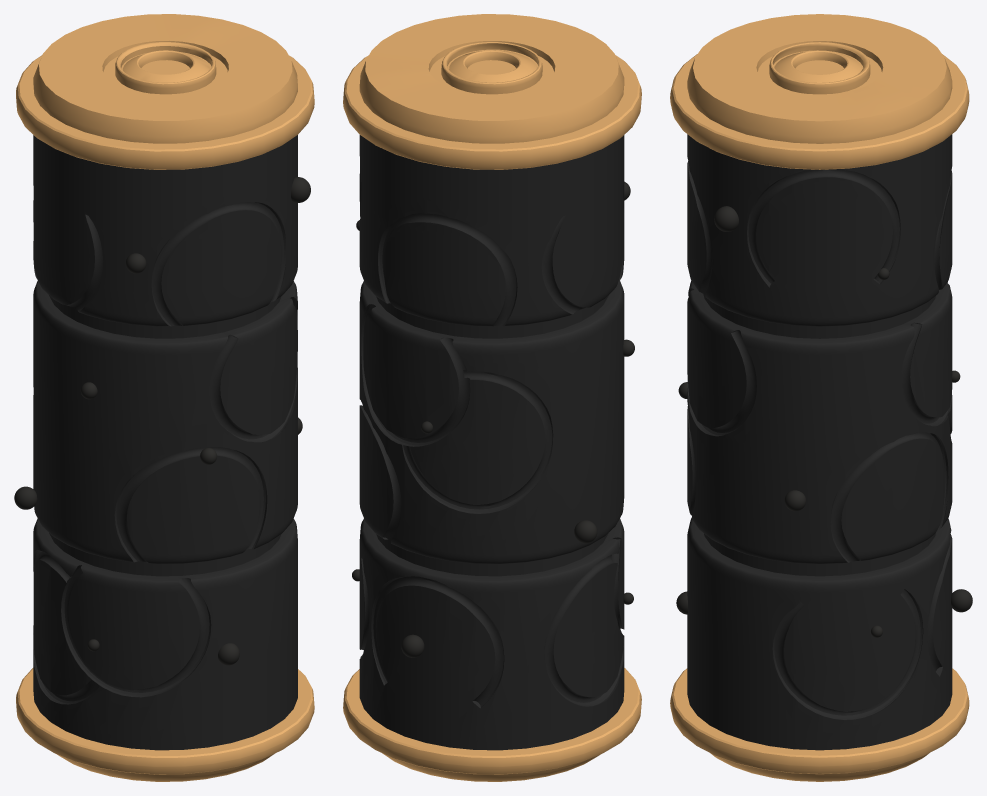
The model's file is psalm-cylinder.glb.
3 views of the same model, side by side, from view 1: azimuth 30°, elevation 25°; view 2: azimuth 150°, elevation 25°; view 3: azimuth 270°, elevation 25° (orthographic).
Visible parts, largest first — view 1: Cylinder; view 2: Cylinder; view 3: Cylinder.
Boxes of the visible parts, left/top/right/bottom form: Cylinder: left=16, top=14, right=314, bottom=781; Cylinder: left=343, top=14, right=641, bottom=781; Cylinder: left=670, top=14, right=969, bottom=781.
Bounding box in the file's own units: 0.8931 × 2.22 × 0.9032.
